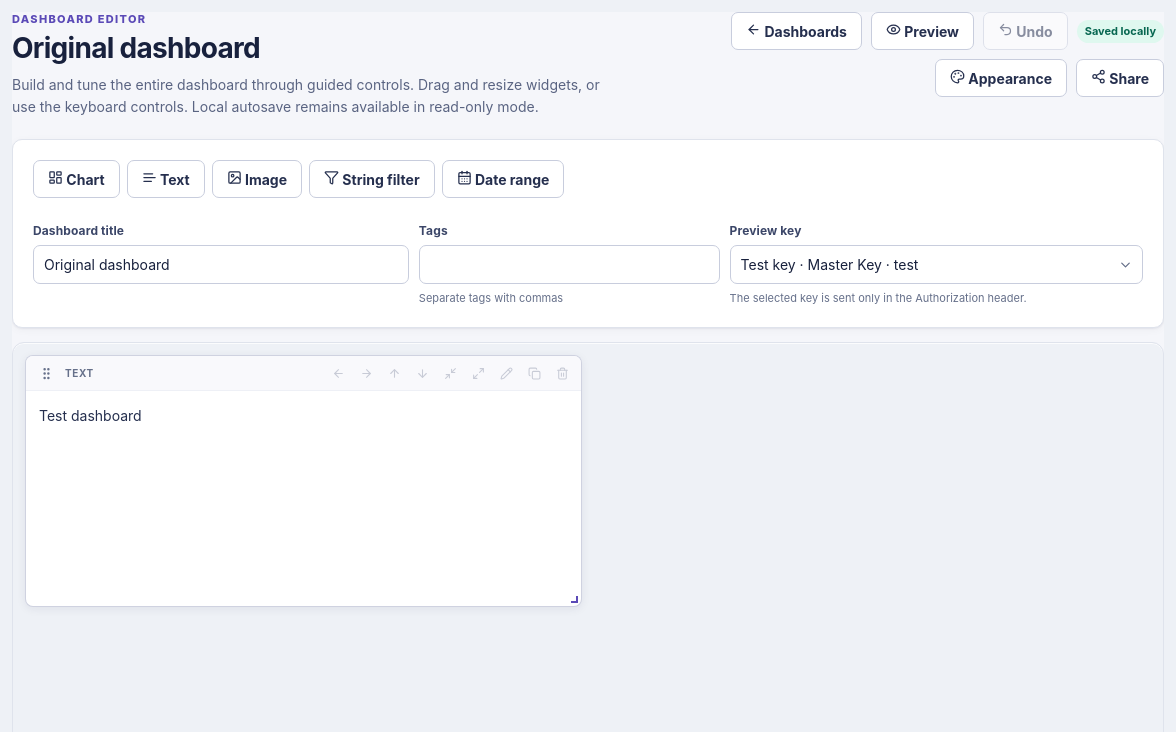
Test case: dashboard editor local saving › cancels the debounced edit when Undo restores the previous document
Expected: the text "Saved locally" is shown, 1077,20 -> 1164,42
Replace the text in the field labelled "Dashboard title" with "Undone edit" at [221, 265], box 33,245 -> 409,284
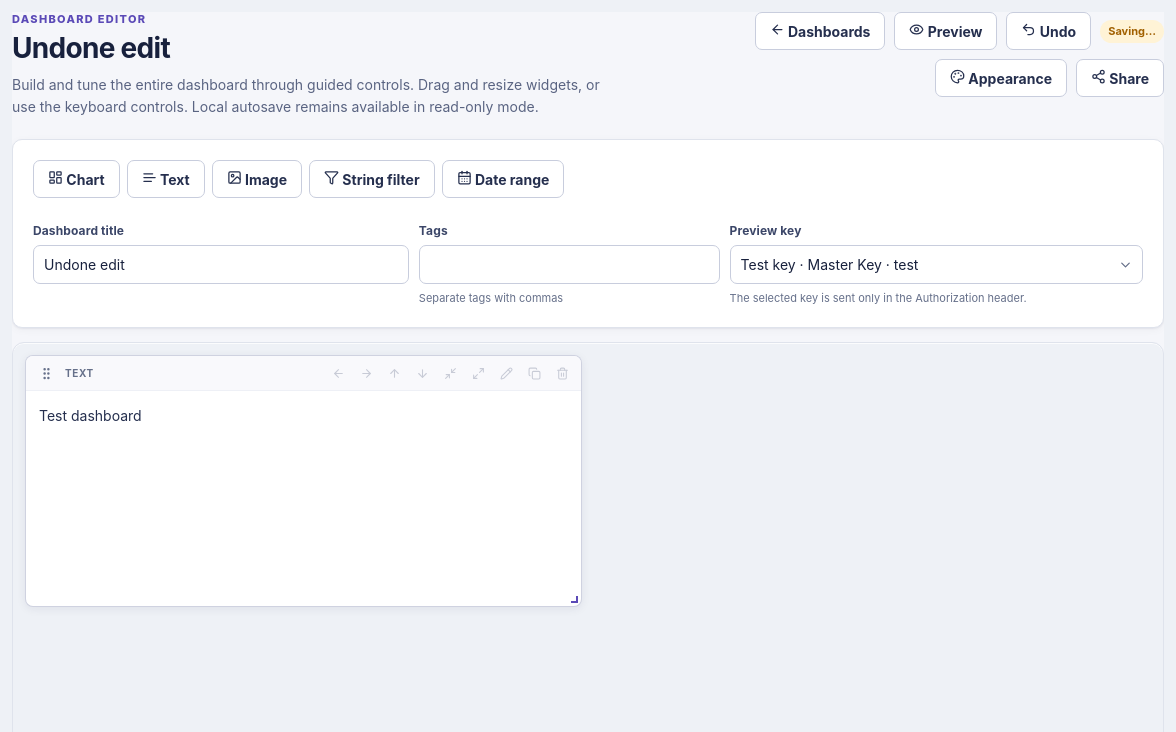
Click the button "Undo".
click(1049, 31)  # box 1006,12 -> 1091,50
Wait 1000 ms
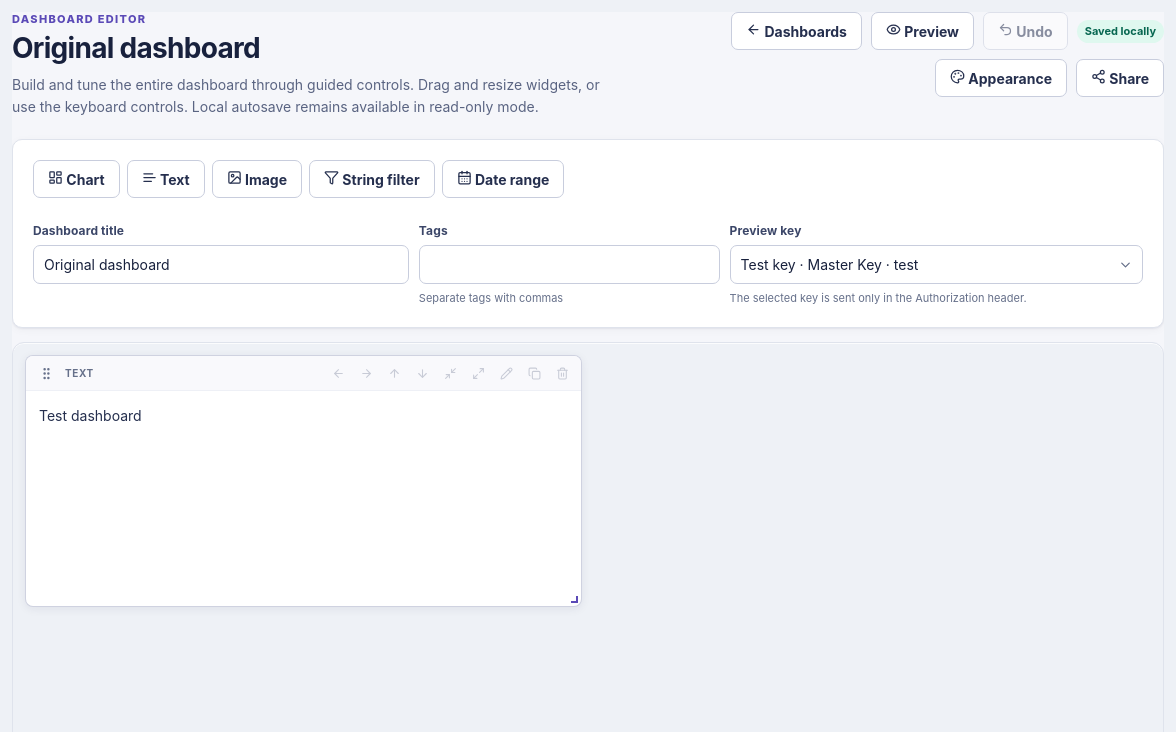
Expected: the field labelled "Dashboard title" holds "Original dashboard", 33,245 -> 409,284
Expected: the heading "Original dashboard" is shown, 12,31 -> 260,65
Expected: the text "Saved locally" is shown, 1077,20 -> 1164,42
